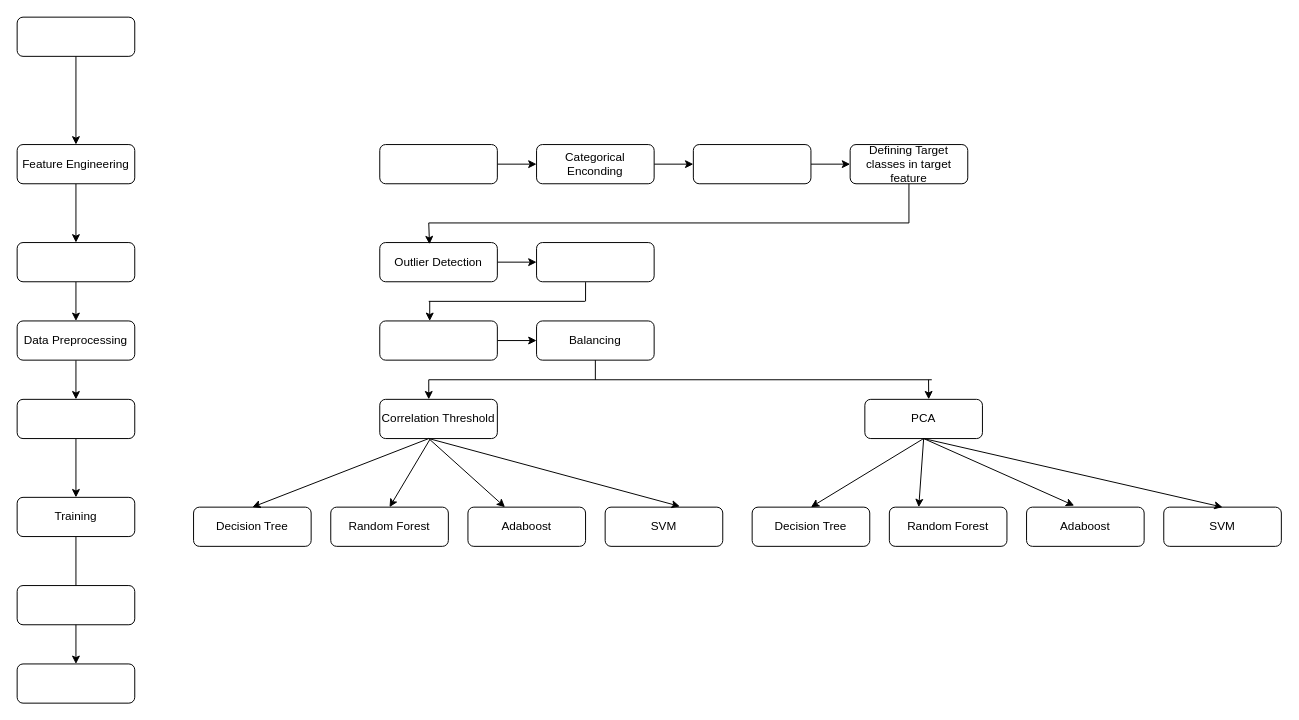
This 1299x720 diagram has some shape labels left out. The box of each missing label's shape, as (x1, y1, x2, y2) in pixels:
Creating New features from dates features: (692, 144, 811, 184)
Data: (16, 16, 135, 56)
Data Cleaning: (16, 242, 135, 282)
Dimensionality Reduction: (16, 398, 135, 439)
Imputation: (536, 242, 654, 282)
Normalization: (379, 320, 497, 360)
Remove Features having more than 60 percent null values: (379, 144, 497, 184)
Testing: (16, 663, 135, 703)
Validation: (16, 585, 135, 625)
